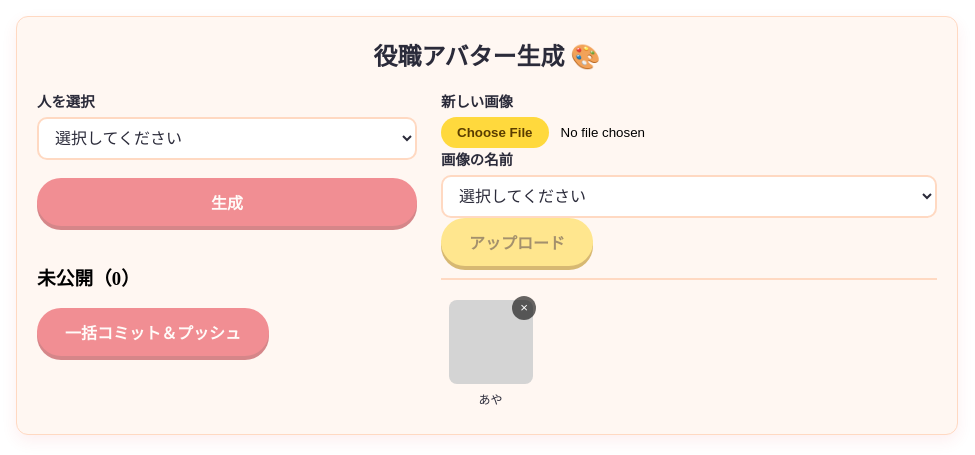
GeneratePage embedded mode › removes a deleted avatar from the list
The width and height of the screenshot is (975, 455).
Step 1. Click the button named "あやの画像を削除" → (524, 308), box [512, 296, 536, 320]
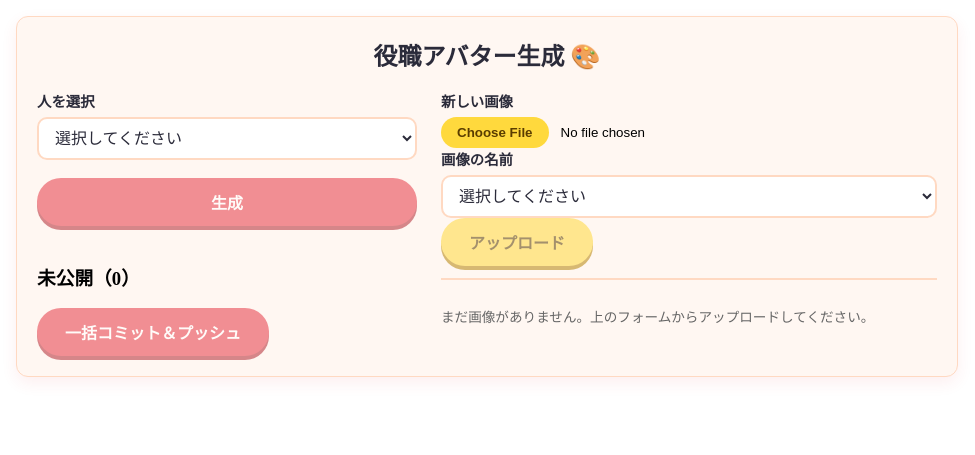
Check: the button with test id "avatar-option" is gone
